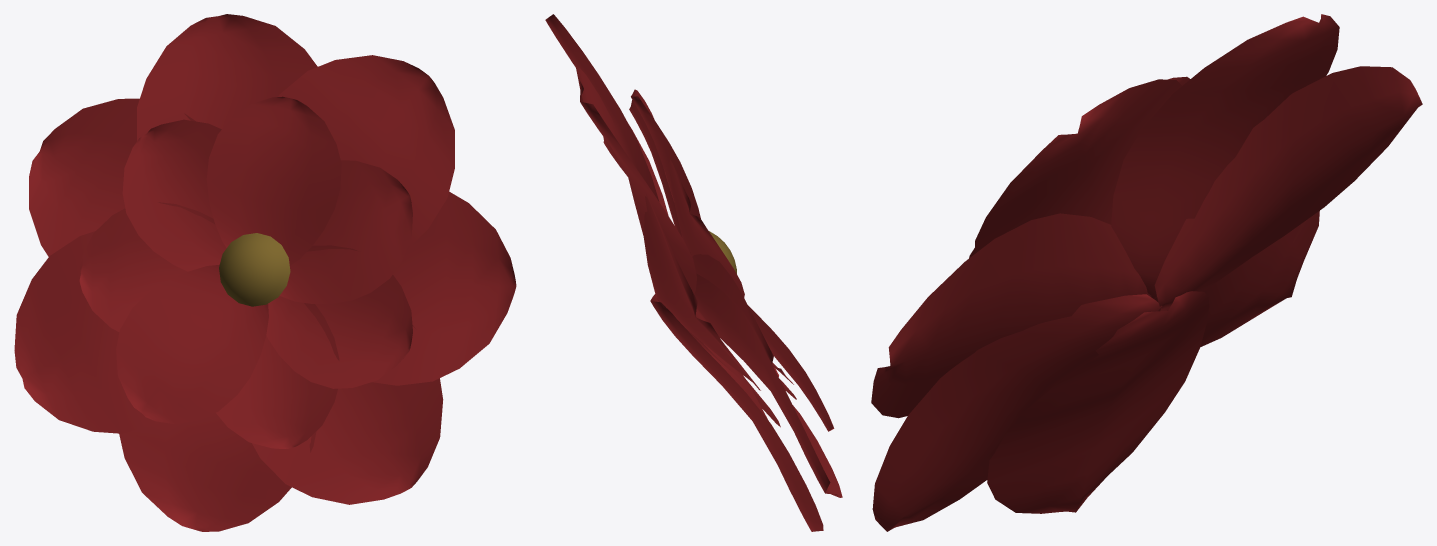
File: MaskFlowerLeft.fbx
3 renders of one model, left to right at view 1: azimuth 30°, elevation 25°; view 2: azimuth 150°, elevation 25°; view 3: azimuth 270°, elevation 25°, orthographic. The views are drawn at different scales.
Visible parts, largest first — view 1: FlowerLeft; view 2: FlowerLeft; view 3: FlowerLeft.
Part boxes in pixels (<box>): FlowerLeft: <box>14,14,516,531</box>; FlowerLeft: <box>545,14,842,531</box>; FlowerLeft: <box>871,14,1422,531</box>.
Size of the model in its own units: 13.77 by 15.98 by 13.94.
